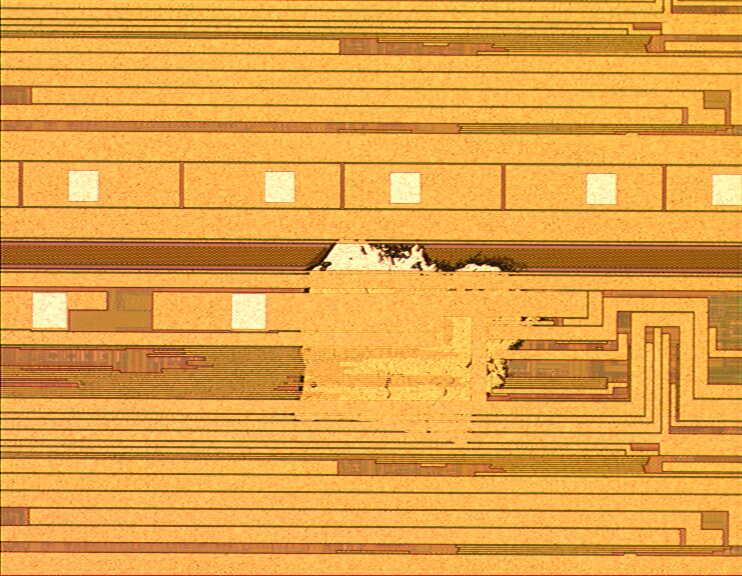BLOCK ETCH: (292, 228, 558, 451)
